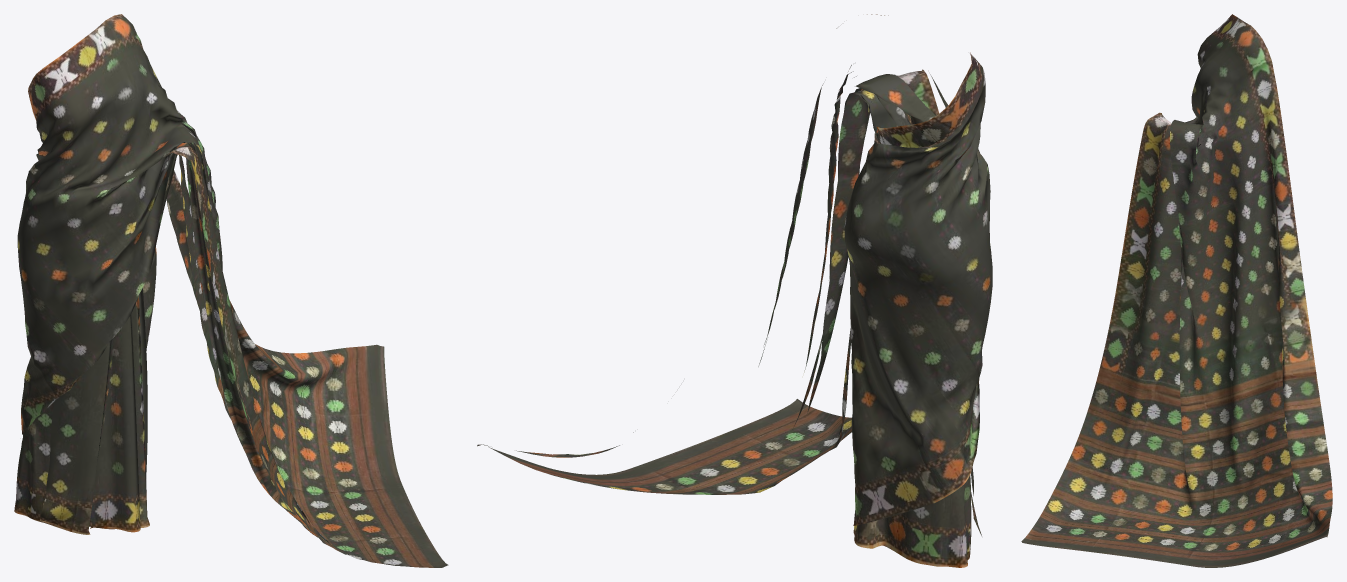
The model's file is sharee200.glb.
The picture shows the model from 3 angles, left to right: view 1: azimuth 30°, elevation 25°; view 2: azimuth 150°, elevation 25°; view 3: azimuth 270°, elevation 25°; orthographic projection. The views are drawn at different scales.
Parts seen in each view (by area): view 1: sharee.001; view 2: sharee.001; view 3: sharee.001.
Part boxes in pixels (x1,y1,x2,y2): sharee.001: (14, 14, 448, 567); sharee.001: (477, 14, 992, 567); sharee.001: (1021, 14, 1332, 567).
Bounding box in the file's own units: 124 × 145 × 94.6.
Materials: 1 (1 with a texture image).
